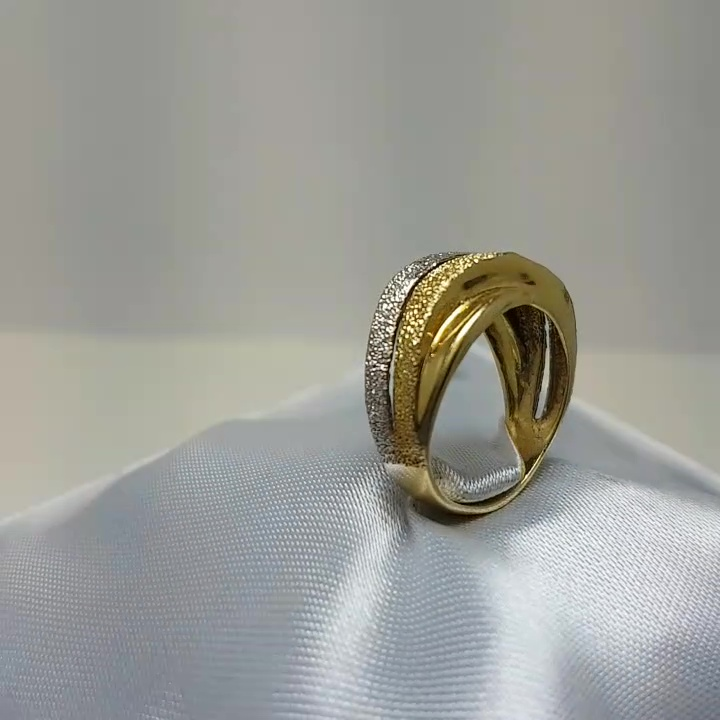Ring 5: (351, 240, 589, 538)
